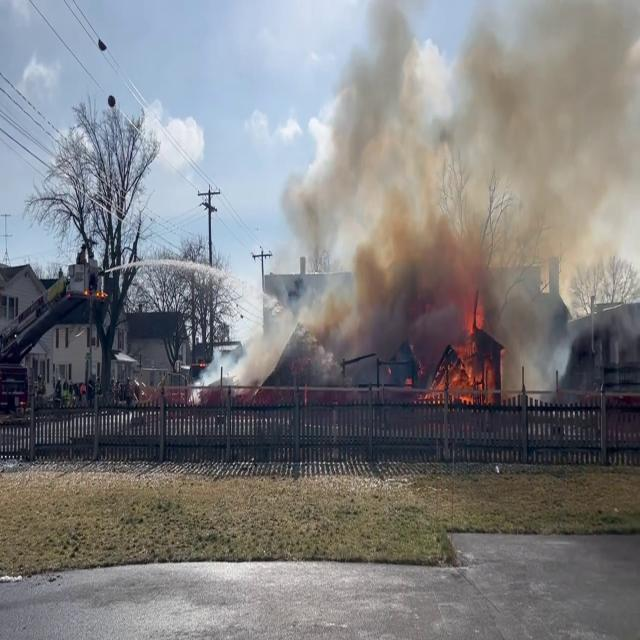Fire: (433, 297, 495, 409)
Smoke: (221, 0, 640, 395)
